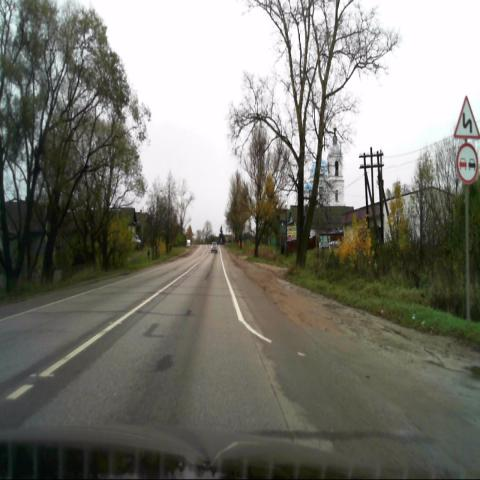1_12_2: (454, 96, 480, 142)
3_20: (456, 144, 478, 184)
